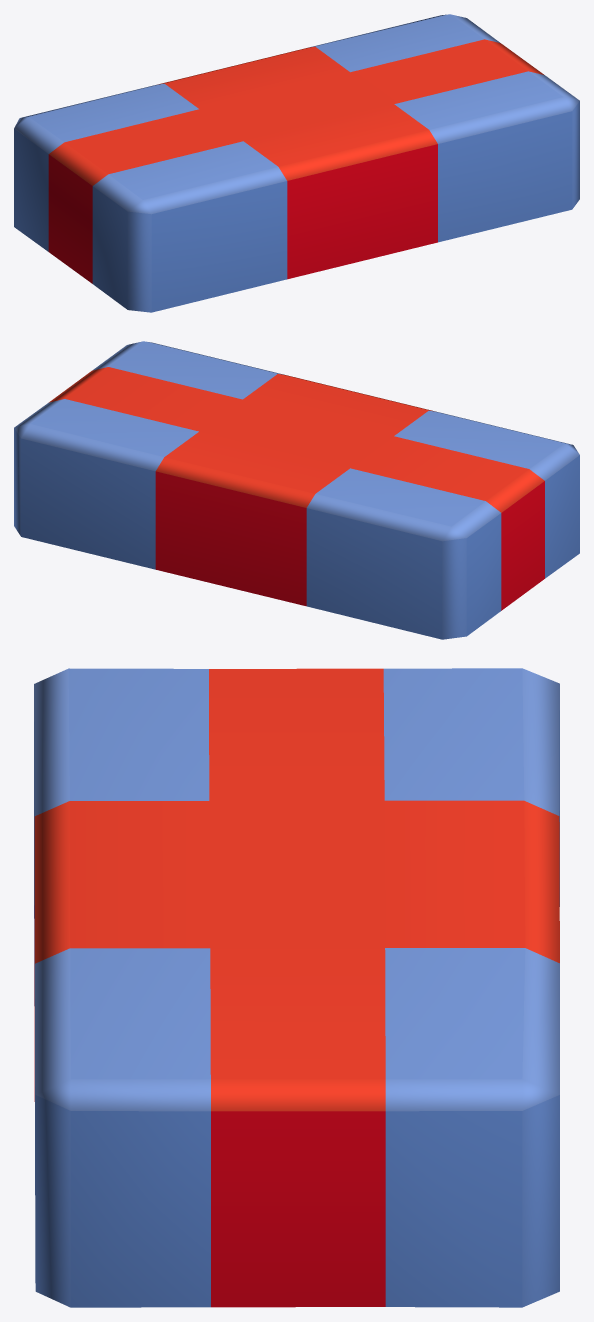
File: Gift_Christmas2.fbx
The picture shows the model from 3 angles, top to bottom: view 1: azimuth 30°, elevation 25°; view 2: azimuth 150°, elevation 25°; view 3: azimuth 270°, elevation 25°; orthographic projection. The views are drawn at different scales.
Visible parts, largest first — view 1: Gift_Christmas2; view 2: Gift_Christmas2; view 3: Gift_Christmas2.
Part boxes in pixels (x1=…): Gift_Christmas2: x1=14, y1=14, x2=579, y2=312; Gift_Christmas2: x1=14, y1=341, x2=579, y2=639; Gift_Christmas2: x1=34, y1=668, x2=559, y2=1307.
Bounding box in the file's own units: 74.2 × 16.62 × 37.31.
